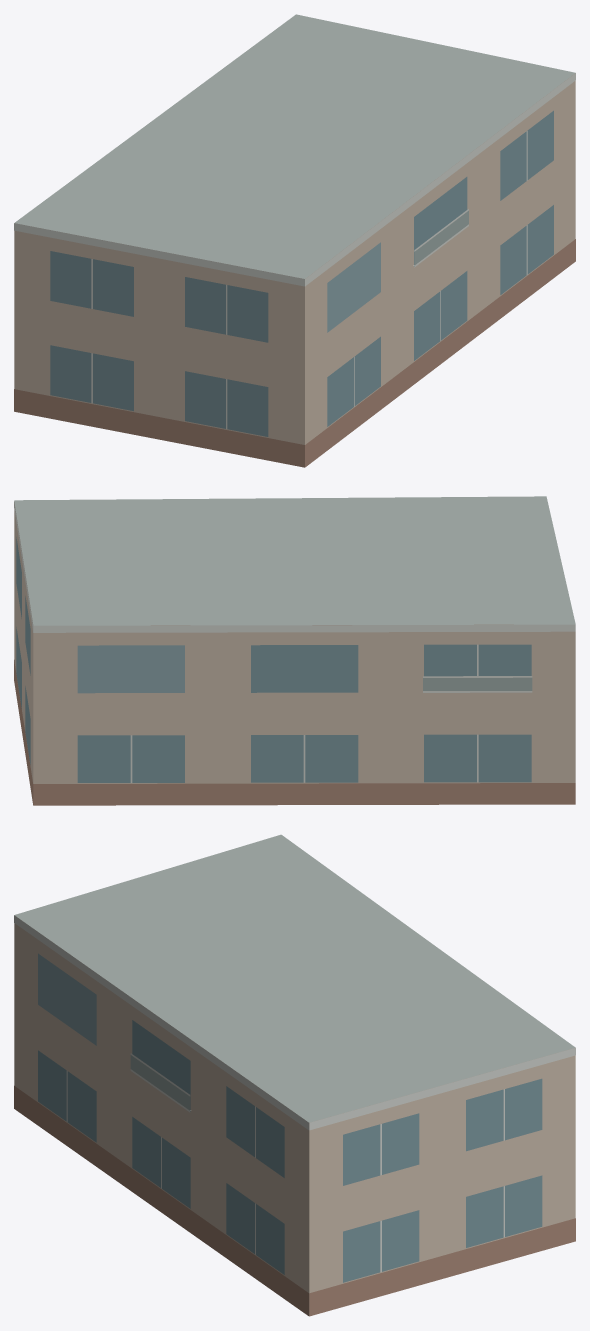
The model's file is survey-upis-32685616.glb.
The picture shows the model from 3 angles, top to bottom: view 1: azimuth 30°, elevation 25°; view 2: azimuth 150°, elevation 25°; view 3: azimuth 270°, elevation 25°; orthographic projection. The views are drawn at different scales.
Parts seen in each view (by area): view 1: survey-upis-32685616.tmp; view 2: survey-upis-32685616.tmp; view 3: survey-upis-32685616.tmp.
Part boxes in pixels (x1,y1,x2,y2): survey-upis-32685616.tmp: (14,14,575,467); survey-upis-32685616.tmp: (14,496,575,805); survey-upis-32685616.tmp: (14,834,575,1316).
Size of the model in its own units: 19.48 by 6.1 by 16.04.
